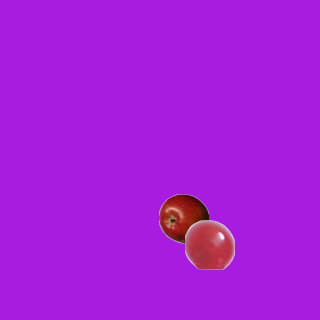Apple Braeburn: (158, 193, 208, 243)
Redcurrant: (184, 219, 234, 269)
